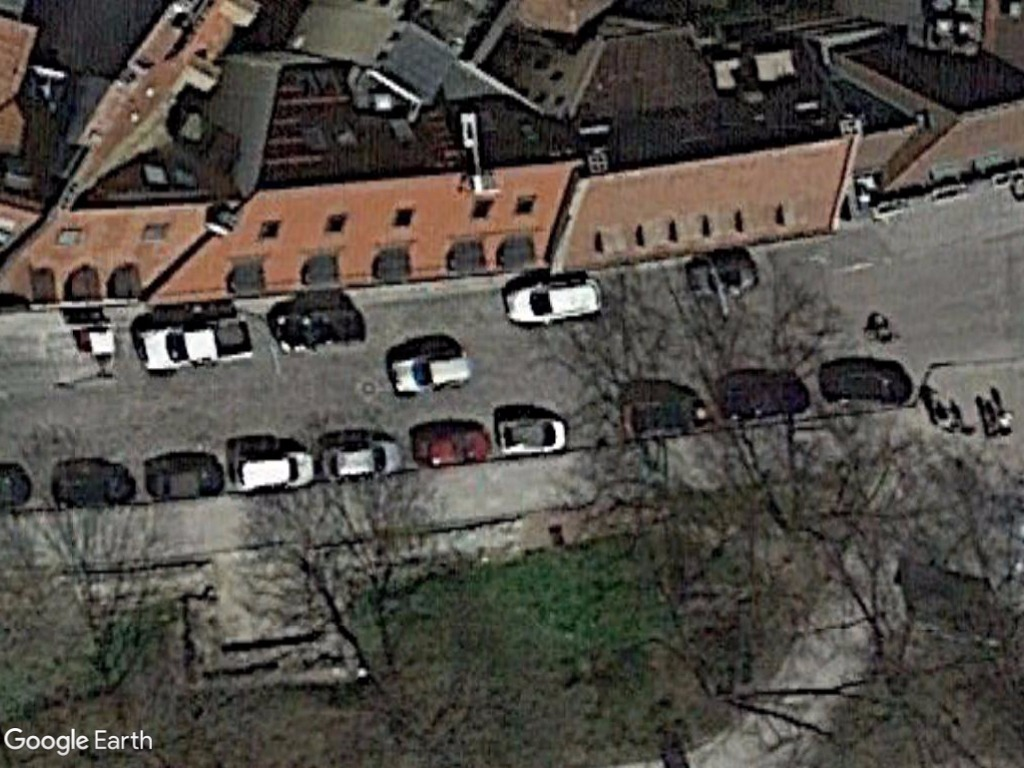car: (496, 273, 608, 336), (384, 343, 475, 403), (224, 448, 320, 496), (319, 434, 409, 485), (490, 413, 574, 462)
other: (130, 308, 261, 376)
